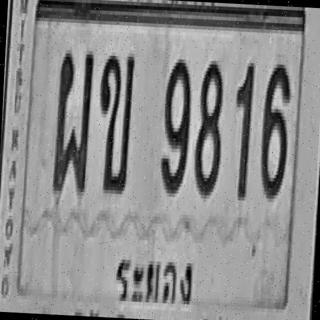A02: (94, 52, 134, 194)
A28: (52, 48, 94, 194)
N01: (231, 59, 255, 200)
N06: (259, 60, 291, 199)
N08: (193, 57, 225, 196)
N09: (159, 55, 193, 194)
P53: (112, 241, 200, 308)
